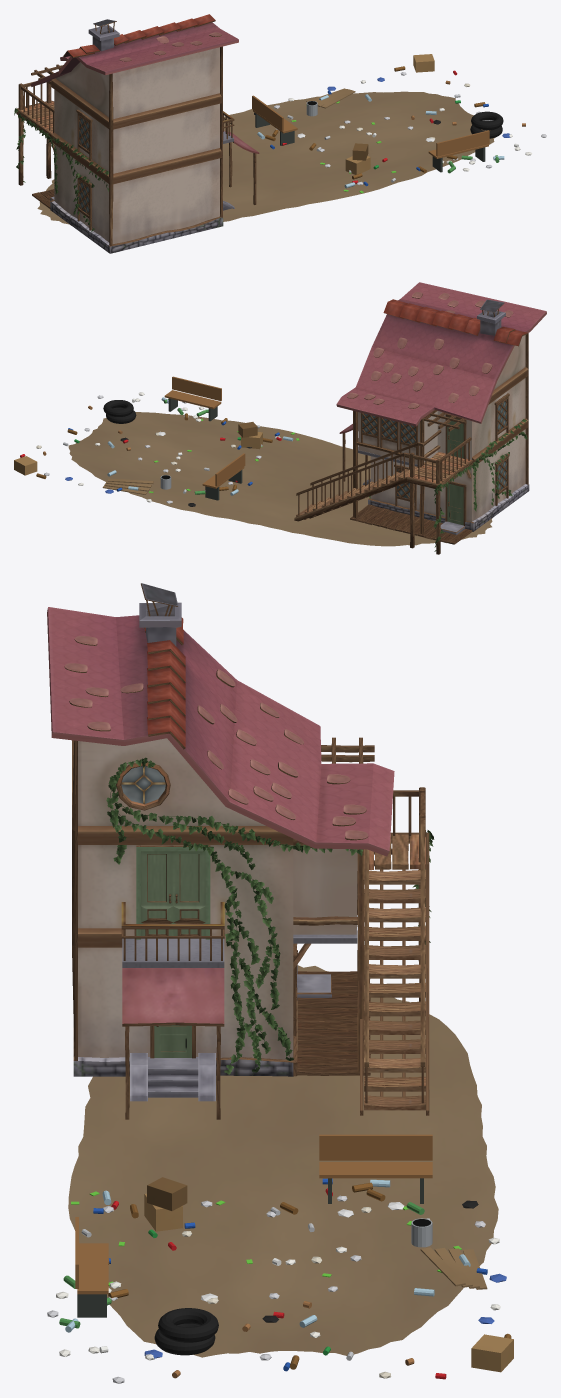
The model's file is chatka.glb.
The picture shows the model from 3 angles, top to bottom: view 1: azimuth 30°, elevation 25°; view 2: azimuth 150°, elevation 25°; view 3: azimuth 270°, elevation 25°; orthographic projection. The views are drawn at different scales.
Visible parts, largest first — view 1: dum; view 2: dum; view 3: dum.
Part boxes in pixels (x1,y1,x2,y2): dum: (14,14,546,253); dum: (14,282,546,554); dum: (47,583,513,1383).
Bounding box in the file's own units: 28.46 × 12.44 × 13.17.
Materials: 1 (1 with a texture image).
